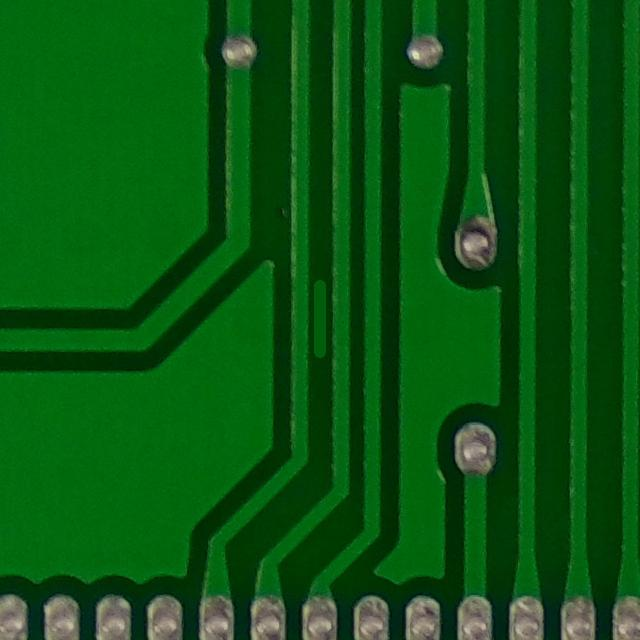spurious_copper: (292, 268, 348, 372)
